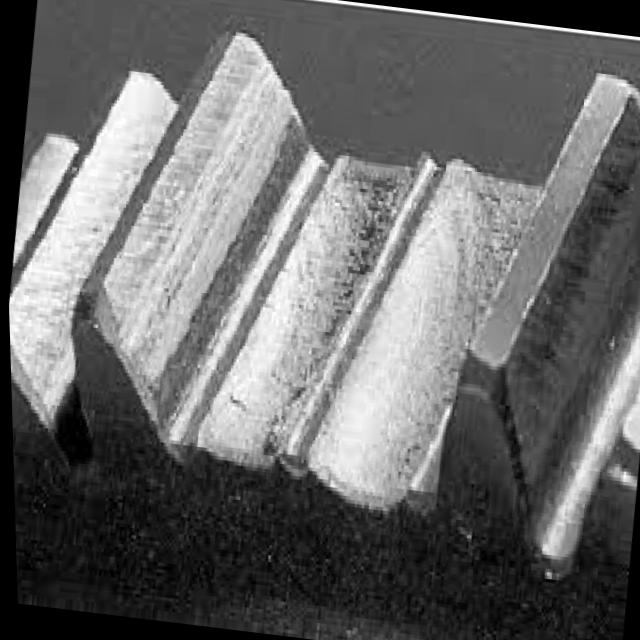Fault-Exist: (1, 0, 640, 560)
